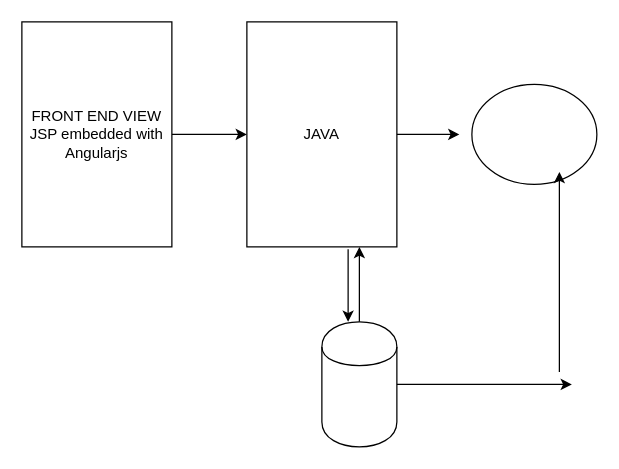
The diagram is 619 pixels wide and 469 high, and some of its shapes have lost their labels. Here are the shapes that lost their labels. From the top down, the box of each, then its label:
(471, 83, 597, 184): Physical Disk
(321, 321, 397, 447): Mongo DB storing URL from physical disk
